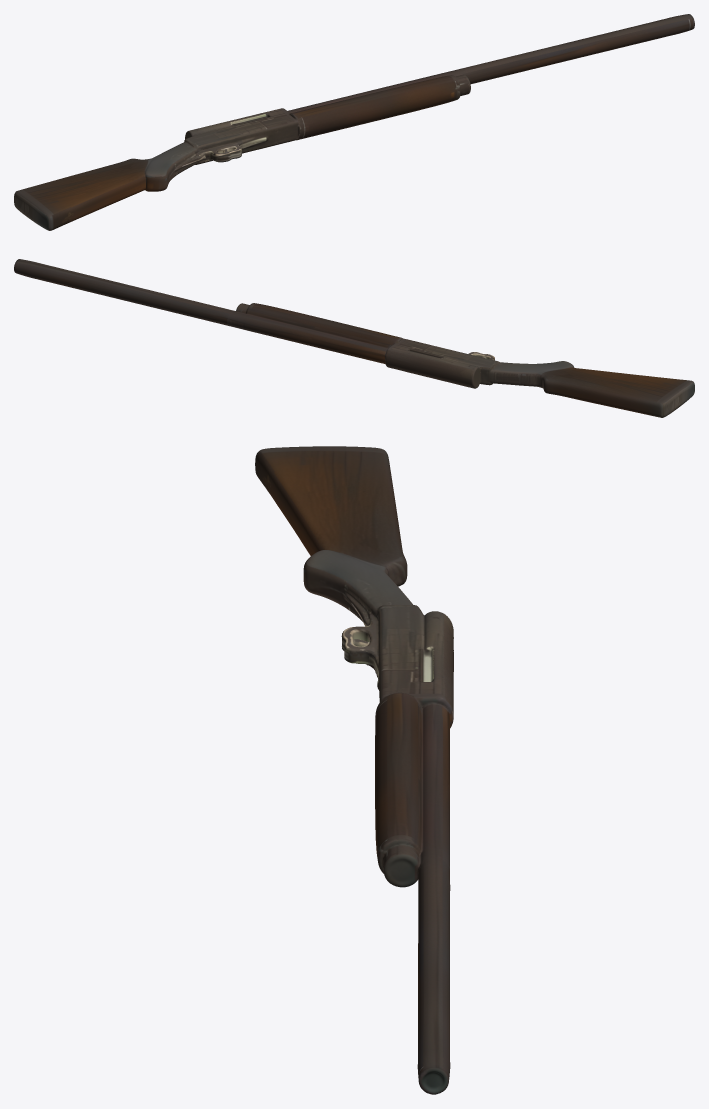
File: 香港第一支群众武装南鹿联防队使用过的猎枪.glb
The picture shows the model from 3 angles, top to bottom: view 1: azimuth 30°, elevation 25°; view 2: azimuth 150°, elevation 25°; view 3: azimuth 270°, elevation 25°; orthographic projection. The views are drawn at different scales.
Parts seen in each view (by area): view 1: texture_pbr_v128; view 2: texture_pbr_v128; view 3: texture_pbr_v128.
Part boxes in pixels (x1,y1,x2,y2): texture_pbr_v128: (14,14,694,230); texture_pbr_v128: (14,259,694,417); texture_pbr_v128: (255,446,453,1094).
Bounding box in the file's own units: 1.19 × 0.0415 × 0.1613.
Materials: 1 (1 with a texture image).
